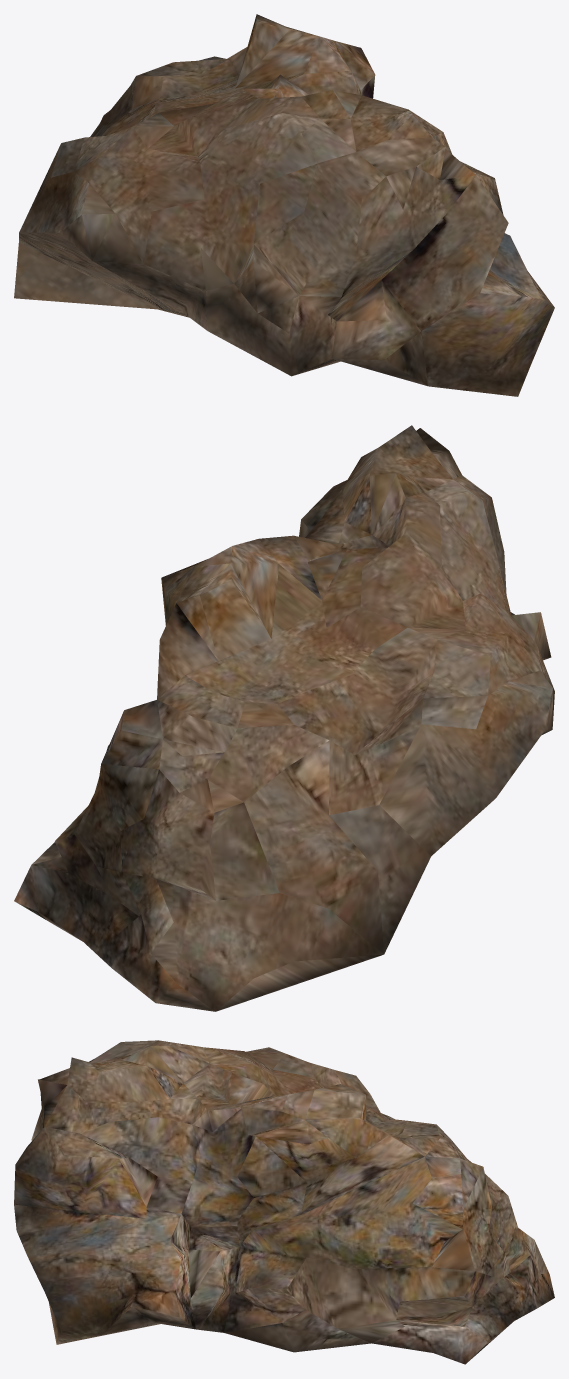
File: rock_c_lod0.glb
The picture shows the model from 3 angles, top to bottom: view 1: azimuth 30°, elevation 25°; view 2: azimuth 150°, elevation 25°; view 3: azimuth 270°, elevation 25°; orthographic projection. The views are drawn at different scales.
Parts seen in each view (by area): view 1: rock; view 2: rock; view 3: rock.
Part boxes in pixels (x1,y1,x2,y2): rock: (14, 14, 554, 396); rock: (14, 425, 554, 1011); rock: (14, 1040, 554, 1364).
Size of the model in its own units: 1.96 by 1.55 by 2.8.
1 material, 1 textured.
